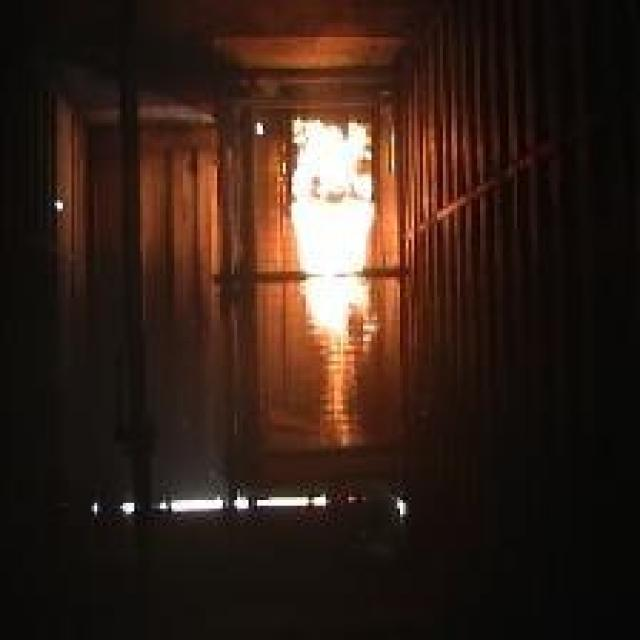fire: (291, 110, 383, 361)
